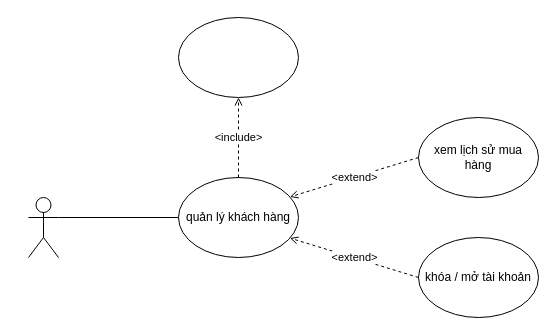
This 556x335 diagram has some shape labels left out. Each missing label, with the centre of its shape:
"nhân viên" belongs at point 43,227.
"truy xuất danh sách khách hàng" belongs at point 238,57.
